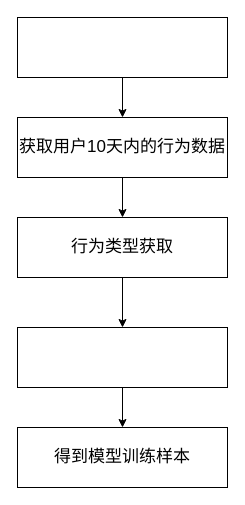
The diagram is 245 pixels wide and 505 high, and some of its shapes have lost their labels. Each missing label, with the box of its shape:
获取用户编号: (16, 16, 228, 78)
行为内容文本映射: (16, 326, 228, 388)
